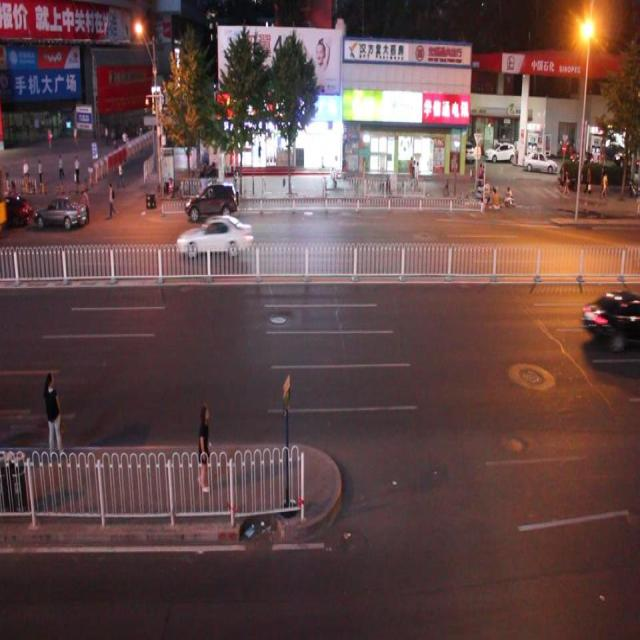car: (581, 288, 640, 354), (176, 216, 252, 257), (185, 172, 240, 222), (36, 190, 91, 228)
